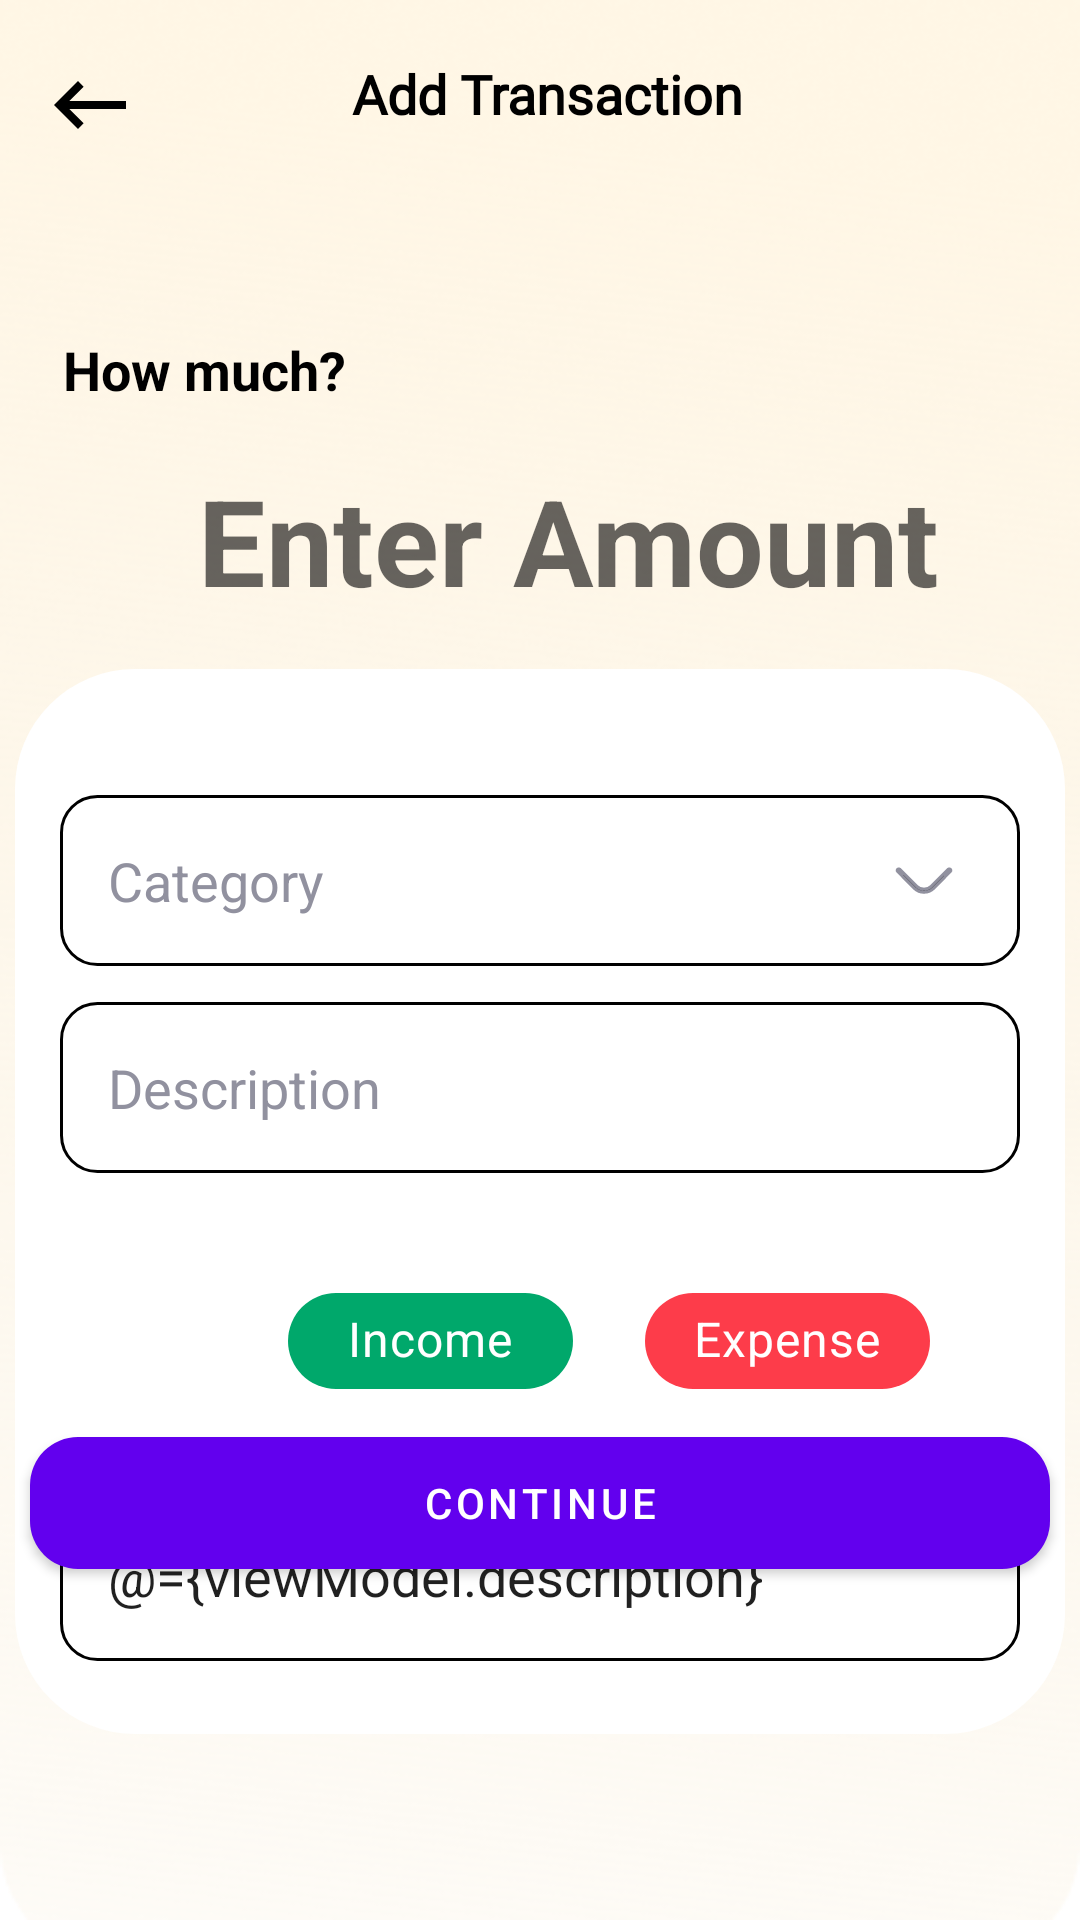

Icon bounding boxes for this 1080 × 1920 phone screenshot, format (x1, y1, x2, y2):
keyboard backspace: (54, 81, 126, 129)
